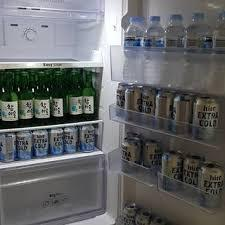soju: (1, 69, 100, 127)
